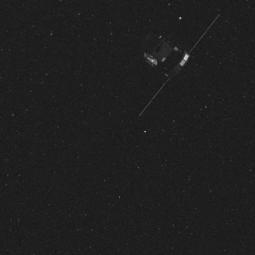soho: (112, 10, 222, 106)
